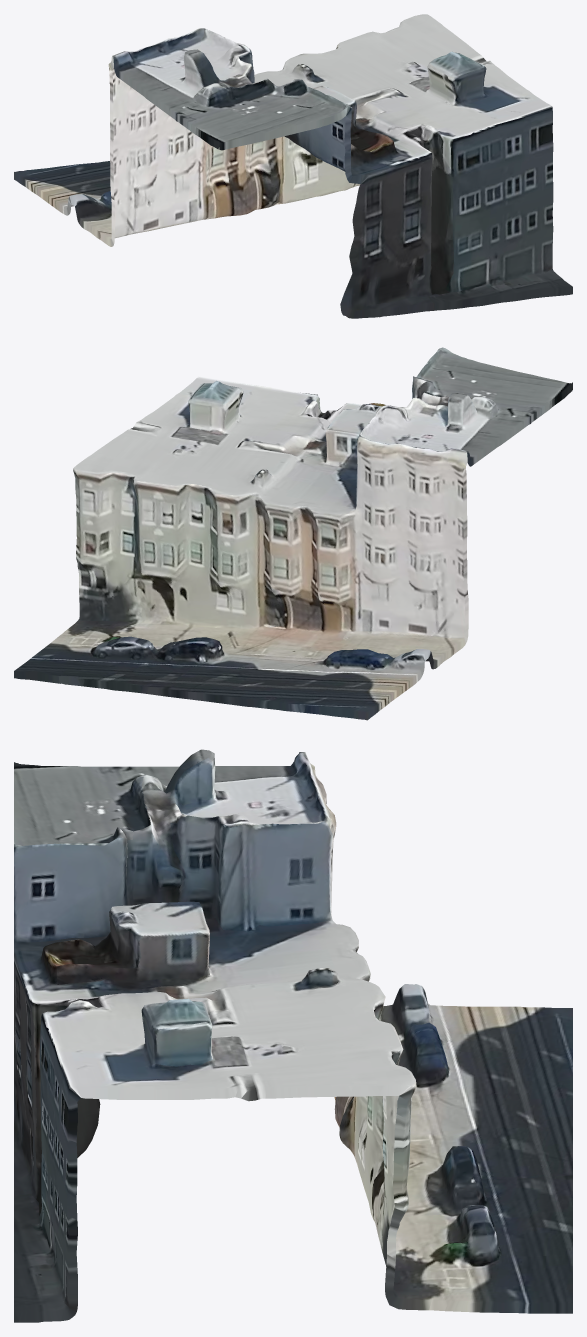
The model's file is z20-167735-405199-h0-yup-uvflip-v3-world.glb.
The picture shows the model from 3 angles, top to bottom: view 1: azimuth 30°, elevation 25°; view 2: azimuth 150°, elevation 25°; view 3: azimuth 270°, elevation 25°; orthographic projection. The views are drawn at different scales.
Size of the model in its own units: 30.16 by 21.76 by 30.32.
1 material, 1 textured.
